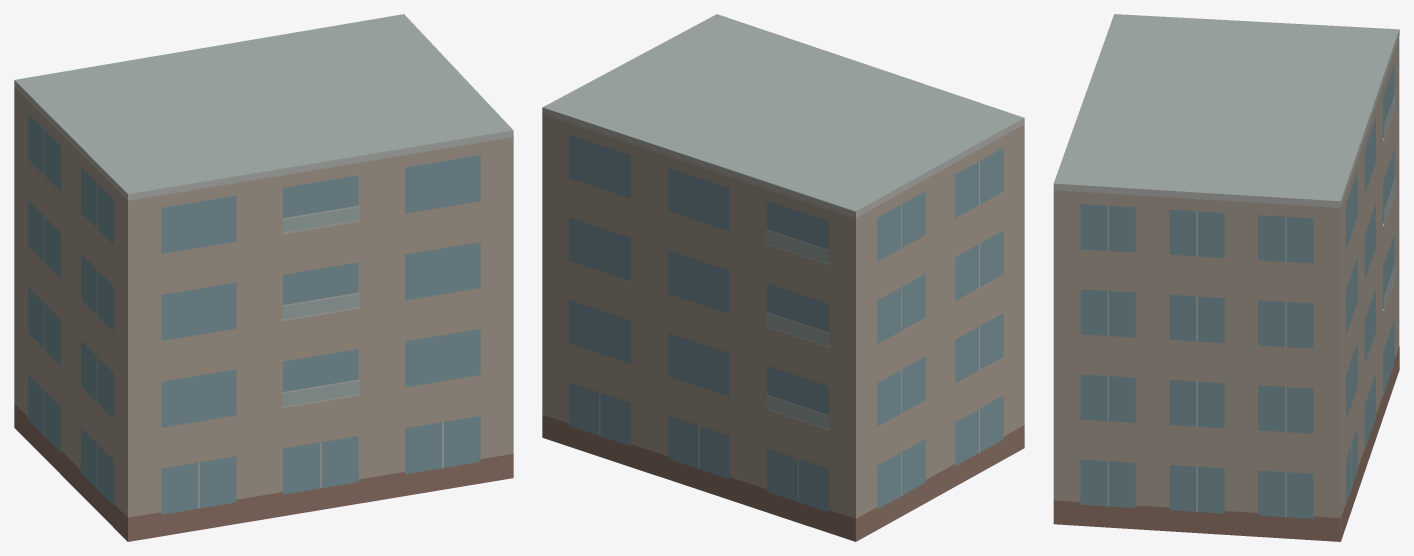
File: survey-upis-32726537.glb
The picture shows the model from 3 angles, left to right: view 1: azimuth 30°, elevation 25°; view 2: azimuth 150°, elevation 25°; view 3: azimuth 270°, elevation 25°; orthographic projection. The views are drawn at different scales.
Visible parts, largest first — view 1: survey-upis-32726537.tmp; view 2: survey-upis-32726537.tmp; view 3: survey-upis-32726537.tmp.
Boxes of the visible parts, left/top/right/bottom form: survey-upis-32726537.tmp: left=14, top=14, right=513, bottom=541; survey-upis-32726537.tmp: left=542, top=14, right=1024, bottom=541; survey-upis-32726537.tmp: left=1053, top=14, right=1399, bottom=541.
Size of the model in its own units: 14.87 by 12.6 by 11.61.
